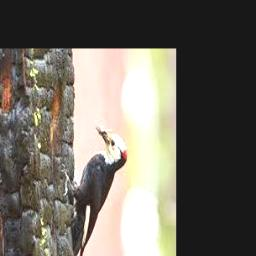Woodpecker: (61, 122, 126, 256)
